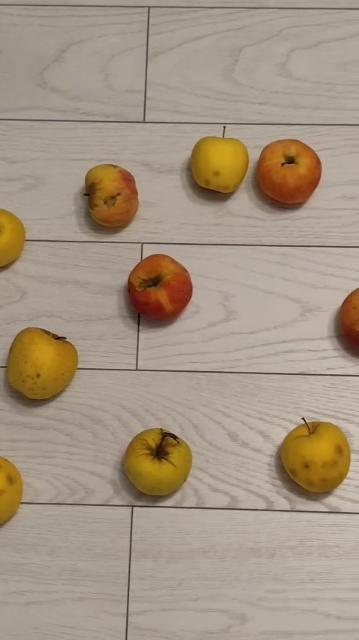apple_green: (280, 416, 350, 492), (6, 327, 78, 398), (123, 428, 191, 495), (190, 132, 249, 193), (0, 455, 24, 528), (0, 208, 27, 268)
apple_red: (127, 254, 193, 320), (257, 139, 322, 204), (84, 163, 140, 227), (340, 286, 359, 348)
